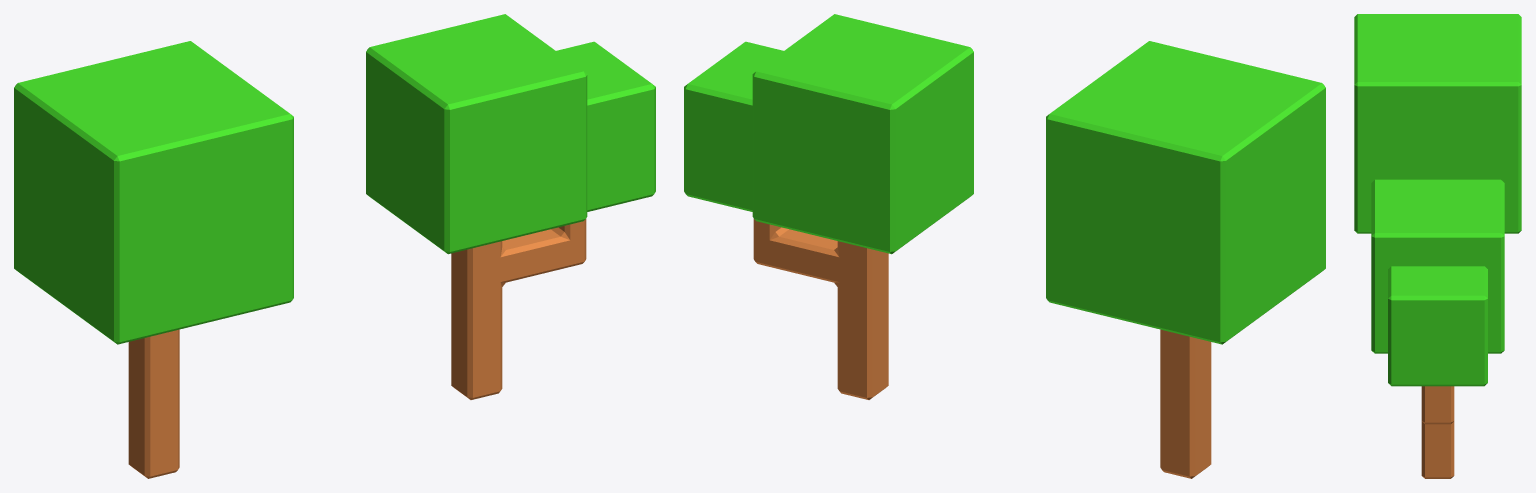
The model's file is Trees_01.fbx.
3 views of the same model, side by side, from view 1: azimuth 30°, elevation 25°; view 2: azimuth 150°, elevation 25°; view 3: azimuth 270°, elevation 25° (orthographic). The views are drawn at different scales.
Parts seen in each view (by area): view 1: Tree_Leaves_01, Tree_Branch_02; view 2: Tree_Leaves_01, Tree_Branch_02; view 3: Tree_Branch_02, Tree_Leaves_01.
Boxes of the visible parts, left/top/right/bottom form: Tree_Leaves_01: left=14, top=41, right=293, bottom=478; Tree_Branch_02: left=366, top=14, right=655, bottom=399; Tree_Leaves_01: left=1046, top=41, right=1325, bottom=478; Tree_Branch_02: left=684, top=14, right=973, bottom=399; Tree_Branch_02: left=1371, top=179, right=1504, bottom=478; Tree_Leaves_01: left=1354, top=14, right=1521, bottom=233.
Bounding box in the file's own units: 306 × 193 × 97.85.
